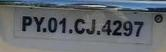0: (48, 15, 58, 35)
1: (59, 16, 67, 35)
2: (112, 18, 123, 37)
4: (100, 17, 112, 38)
7: (133, 19, 145, 38)
9: (123, 19, 133, 38)
C: (73, 18, 85, 35)
J: (85, 16, 96, 37)
P: (20, 13, 33, 33)
Y: (33, 15, 45, 34)
